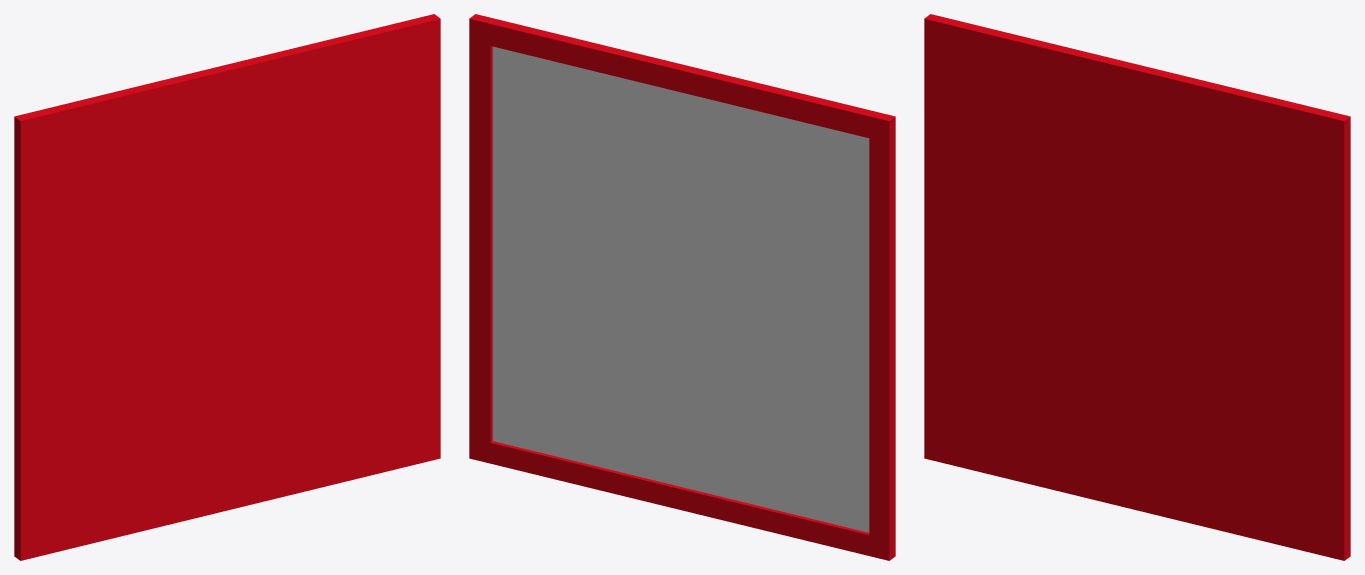
The model's file is mirror1.fbx.
3 renders of one model, left to right at view 1: azimuth 30°, elevation 25°; view 2: azimuth 150°, elevation 25°; view 3: azimuth 330°, elevation 25°, orthographic.
Parts seen in each view (by area): view 1: Cube.017; view 2: Cube.017; view 3: Cube.017.
Part boxes in pixels (bbox=[...]): Cube.017: bbox=[14, 14, 440, 560]; Cube.017: bbox=[469, 14, 895, 560]; Cube.017: bbox=[924, 14, 1350, 560].
Bounding box in the file's own units: 200 × 200 × 5.32.
